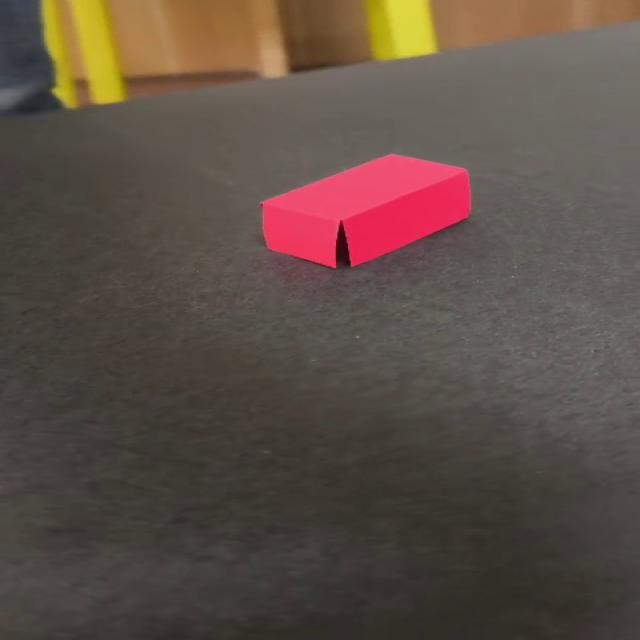red block: (259, 152, 472, 269)
